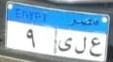9: (28, 27, 36, 49)
ع: (88, 35, 105, 57)
ل: (74, 35, 87, 53)
ي: (56, 36, 73, 53)
